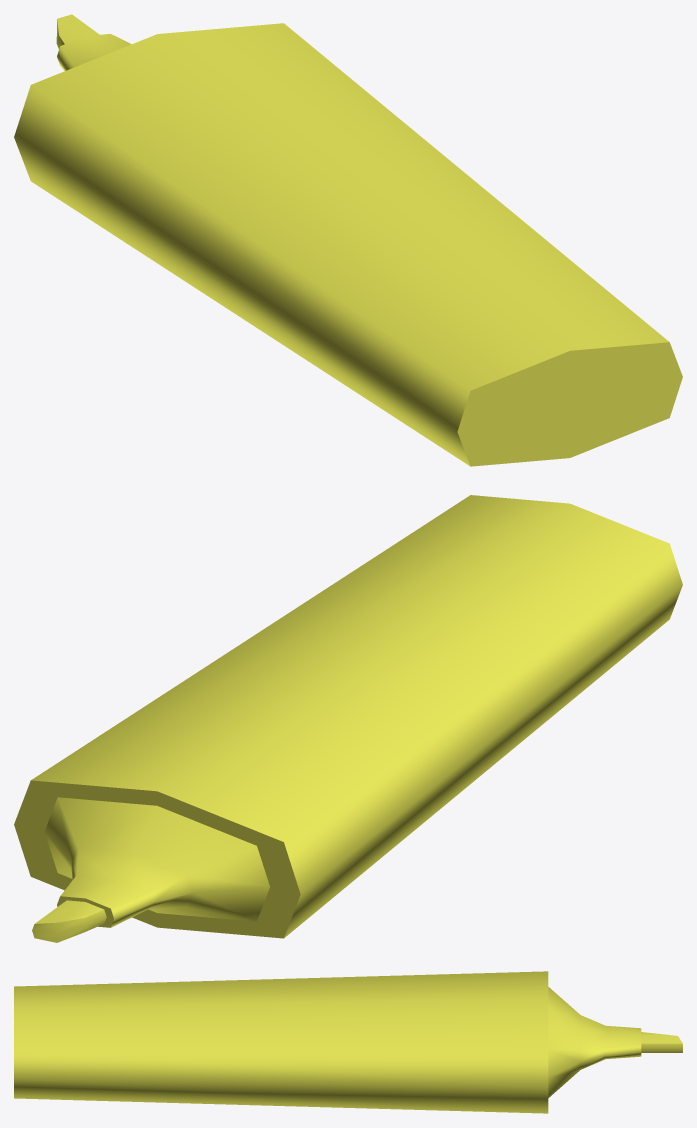
File: Resaltador 2.fbx
The picture shows the model from 3 angles, top to bottom: view 1: azimuth 30°, elevation 25°; view 2: azimuth 150°, elevation 25°; view 3: azimuth 270°, elevation 25°; orthographic projection. The views are drawn at different scales.
Parts seen in each view (by area): view 1: Resaltador_2; view 2: Resaltador_2; view 3: Resaltador_2.
Part boxes in pixels (x1,y1,x2,y2): Resaltador_2: [14, 14, 682, 466]; Resaltador_2: [14, 495, 682, 942]; Resaltador_2: [14, 971, 682, 1113].
Size of the model in its own units: 0.0412 by 0.0187 by 0.1286.
